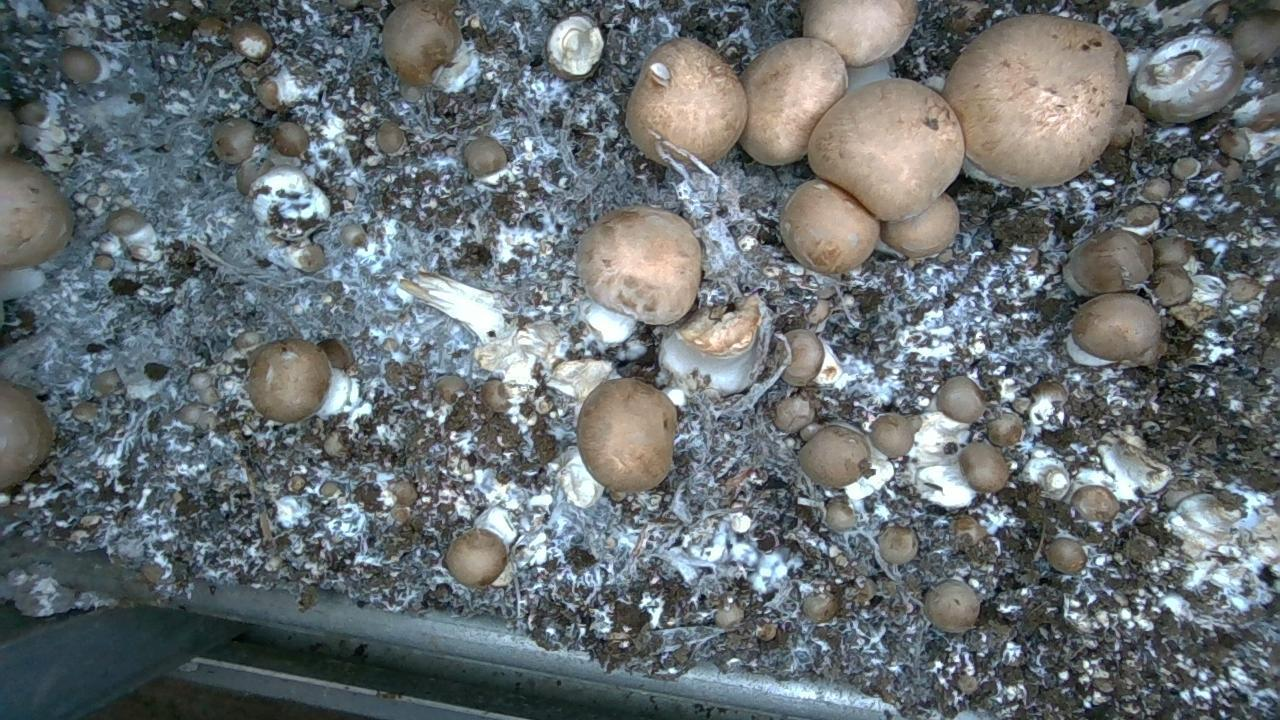BB: (943, 15, 1129, 188), (808, 78, 965, 221), (626, 38, 747, 164), (576, 205, 703, 325), (739, 38, 848, 166), (577, 378, 677, 493), (1130, 34, 1245, 124), (779, 178, 880, 275), (248, 339, 332, 423), (1071, 292, 1166, 365), (1062, 229, 1154, 296), (880, 194, 959, 258), (799, 425, 871, 488), (445, 528, 508, 588), (924, 578, 980, 633), (1231, 9, 1280, 67), (959, 442, 1010, 493), (936, 375, 986, 423), (782, 329, 824, 386), (870, 413, 916, 459), (212, 118, 255, 164), (463, 135, 507, 177), (1071, 485, 1119, 522), (1151, 265, 1193, 307), (230, 22, 273, 63), (1045, 537, 1088, 575), (878, 525, 918, 565), (774, 395, 815, 434), (60, 47, 101, 83), (987, 412, 1025, 447), (273, 122, 310, 157), (1152, 237, 1194, 267), (256, 76, 288, 112), (108, 209, 148, 237)
